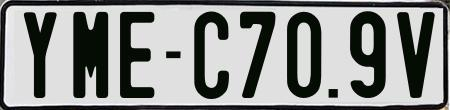0: (286, 11, 323, 100)
7: (240, 11, 279, 103)
9: (350, 10, 386, 99)
C: (193, 8, 234, 102)
E: (118, 12, 152, 102)
M: (73, 12, 111, 103)
V: (394, 12, 433, 99)
Y: (23, 12, 61, 101)
